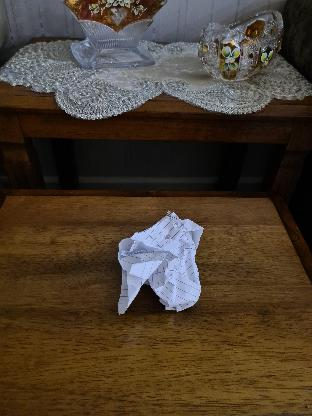Paper: (117, 210, 205, 314)
